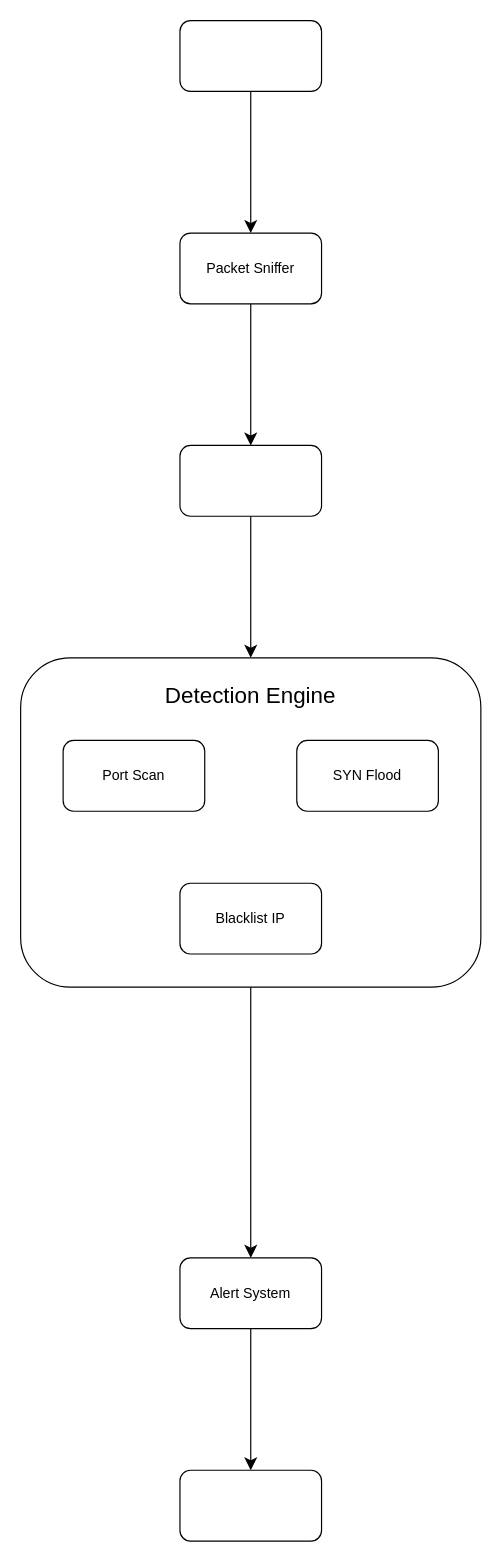
The diagram is 501 pixels wide and 1562 high, and some of its shapes have lost their labels. The shapes that lost their labels are listed below. From the top down, each one's box as (x1, y1, x2, y2) in pixels, then its label:
(179, 19, 322, 91): Network Interface
(179, 444, 322, 516): Packet Parser
(179, 1469, 322, 1541): Dashboard
